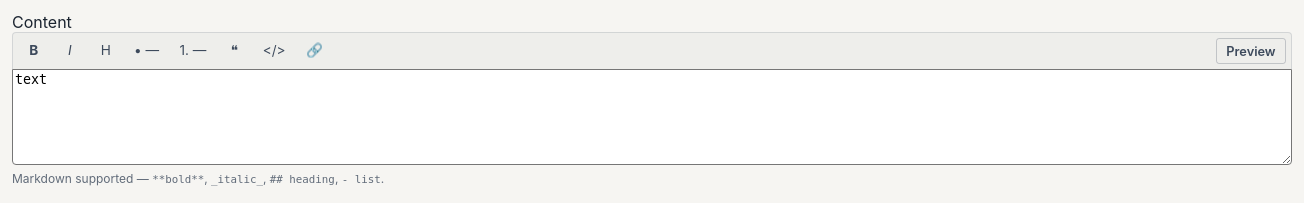
Test: MarkdownEditor › disables the formatting buttons while previewing
The width and height of the screenshot is (1304, 203).
Click the button "Preview": [1251, 51] box [1216,38,1286,64]
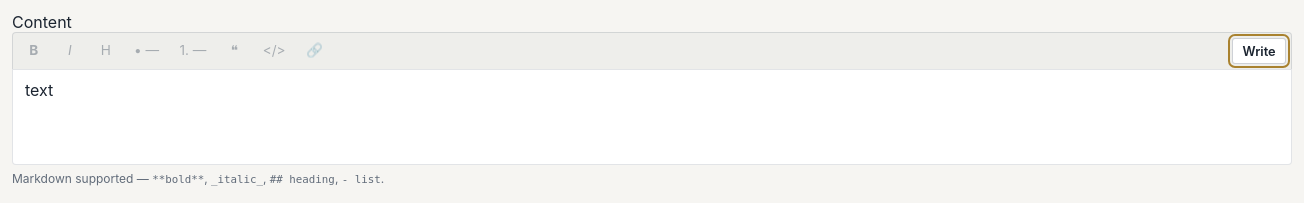
Check: the button named "Bold" is disabled, box [18,38,50,64]
